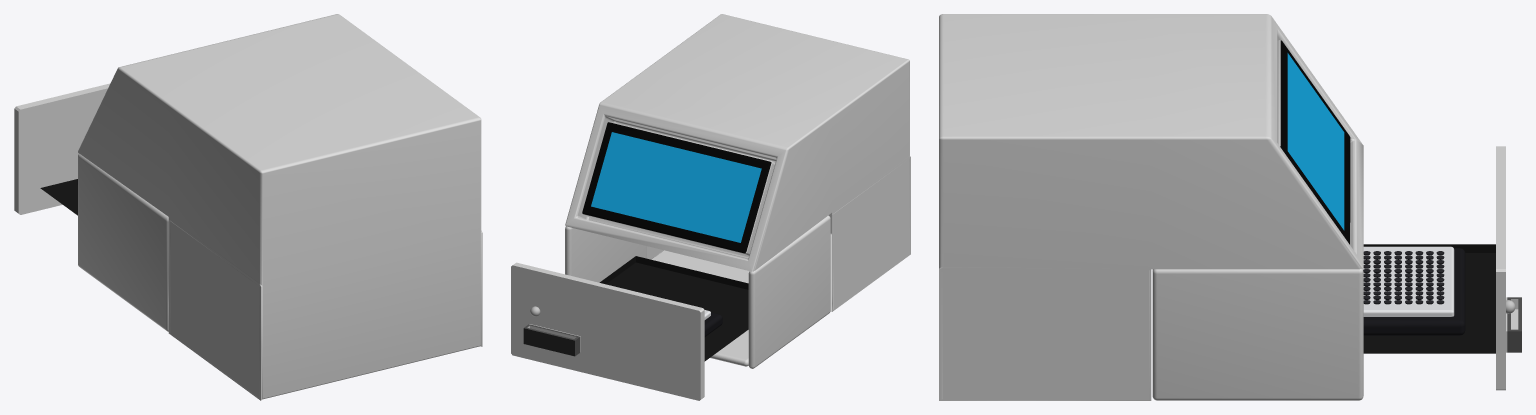
File: Q-PCR.fbx
3 views of the same model, side by side, from view 1: azimuth 30°, elevation 25°; view 2: azimuth 150°, elevation 25°; view 3: azimuth 270°, elevation 25° (orthographic). The views are drawn at different scales.
Visible parts, largest first — view 1: Cube, Plane, Plane.002; view 2: Cube, Plane.002, Plane, Plane.001; view 3: Cube, Plane, Plane.002, Thermal_Block, Wells_96, Gasket_Frame.
Boxes of the visible parts, left/top/right/bottom form: Cube: left=78, top=14, right=482, bottom=400; Plane: left=78, top=153, right=168, bottom=331; Plane.002: left=14, top=83, right=110, bottom=215; Cube: left=565, top=14, right=910, bottom=311; Plane.002: left=511, top=256, right=748, bottom=400; Plane: left=565, top=215, right=830, bottom=368; Plane.001: left=710, top=330, right=748, bottom=366; Cube: left=939, top=14, right=1363, bottom=400; Plane: left=1152, top=268, right=1363, bottom=400; Plane.002: left=1363, top=146, right=1521, bottom=390; Thermal_Block: left=1362, top=246, right=1454, bottom=316; Wells_96: left=1363, top=251, right=1444, bottom=304; Gasket_Frame: left=1363, top=248, right=1465, bottom=335.
Bounding box in the file's own units: 404 × 399 × 798.
